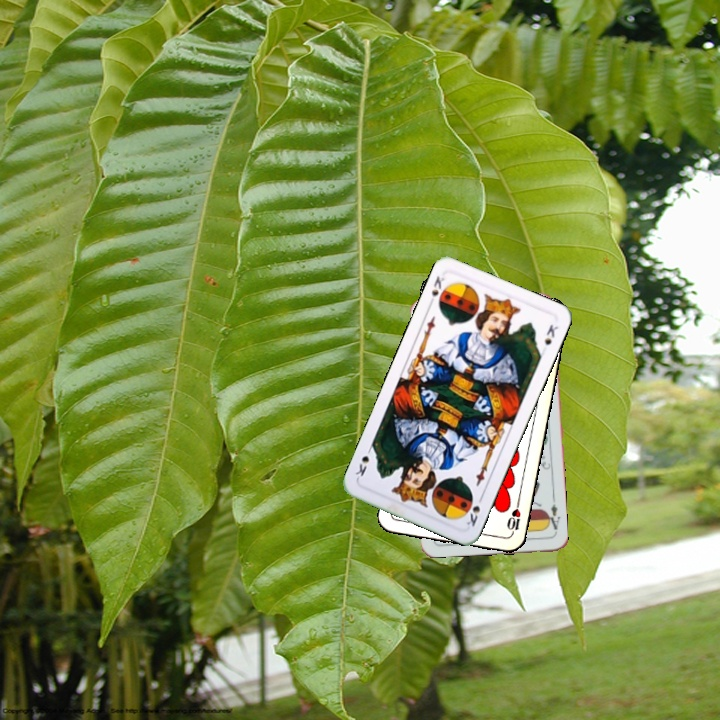EA: (543, 495, 563, 536)
H10: (503, 498, 523, 538)
SK: (462, 491, 486, 529), (425, 272, 447, 308)
